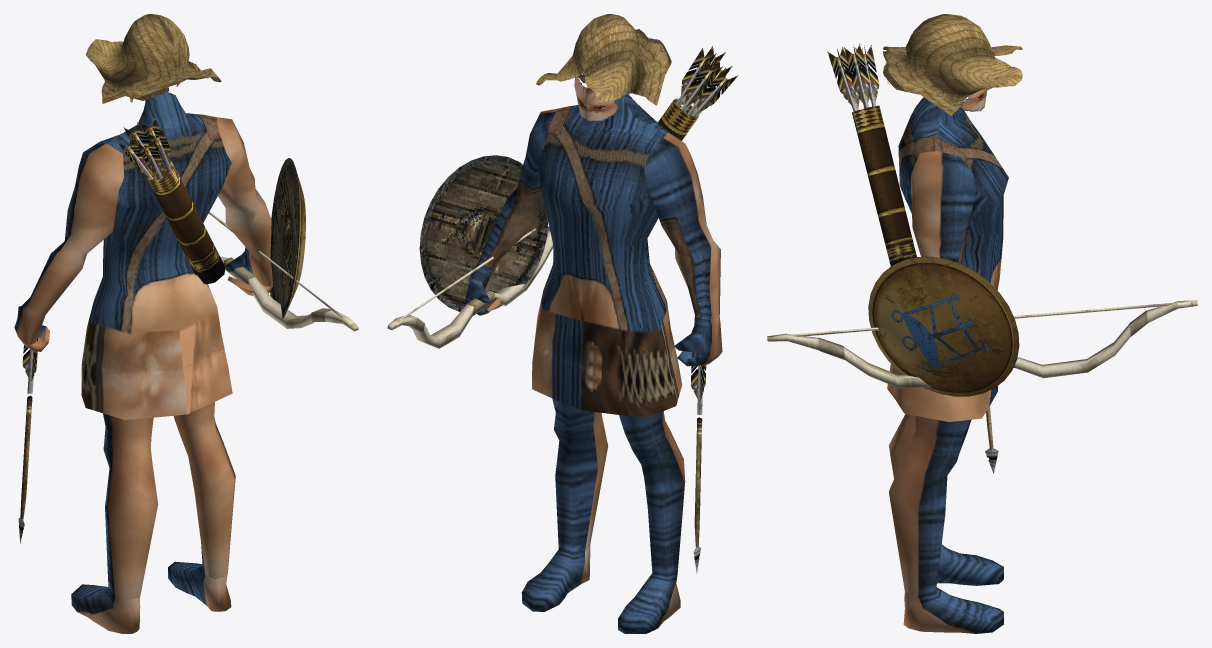
Rendered from archer.glb.
3 views of the same model, side by side, from view 1: azimuth 30°, elevation 25°; view 2: azimuth 150°, elevation 25°; view 3: azimuth 270°, elevation 25° (orthographic).
Parts seen in each view (by area): view 1: archer; view 2: archer; view 3: archer.
Boxes of the visible parts, x1=… form: archer: x1=14, y1=14, x2=358, y2=633; archer: x1=387, y1=14, x2=738, y2=633; archer: x1=767, y1=14, x2=1197, y2=633.
Bounding box in the file's own units: 0.8855 × 1.8 × 1.2.
Materials: 8 (8 with a texture image).
